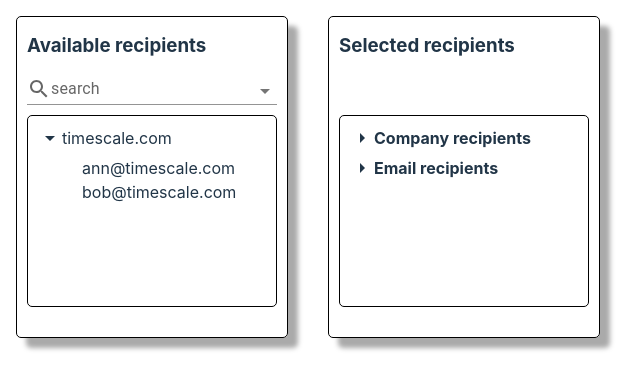
Test: Recipients Component › moves recipient to selected list on click
Click the list item "ann@timescale.com" at (159, 168), box 82,158 -> 235,178
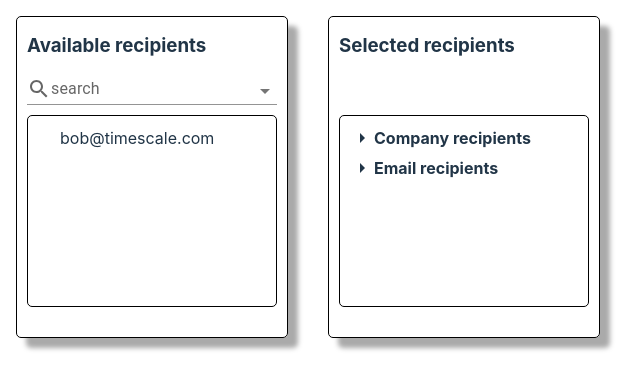
Expected: the list item "ann@timescale.com" is gone
